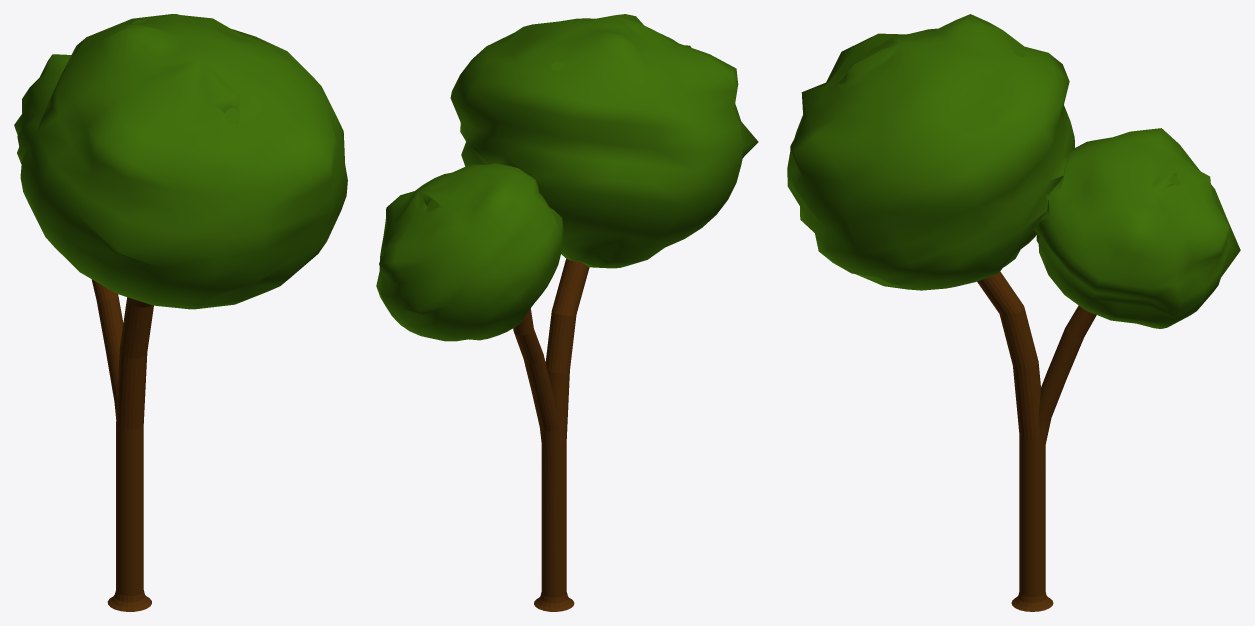
File: tree_1_v2.fbx
The picture shows the model from 3 angles, left to right: view 1: azimuth 30°, elevation 25°; view 2: azimuth 150°, elevation 25°; view 3: azimuth 270°, elevation 25°; orthographic projection. The views are drawn at different scales.
Visible parts, largest first — view 1: pSphere20; view 2: pSphere20; view 3: pSphere20.
Boxes of the visible parts, x1=… form: pSphere20: x1=14, y1=14, x2=347, y2=611; pSphere20: x1=376, y1=14, x2=758, y2=611; pSphere20: x1=787, y1=14, x2=1240, y2=611.
Bounding box in the file's own units: 6.19 × 12.48 × 9.
